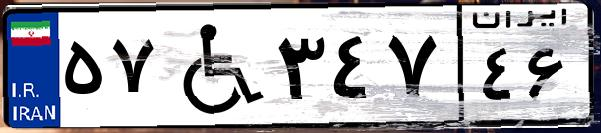3: (270, 28, 330, 110)
4: (330, 28, 385, 110), (475, 38, 525, 113)
5: (57, 26, 110, 100)
6: (525, 38, 570, 115)
7: (385, 28, 445, 110), (110, 28, 158, 98)
ژ (معلولین و جانبازان): (158, 12, 270, 120)
